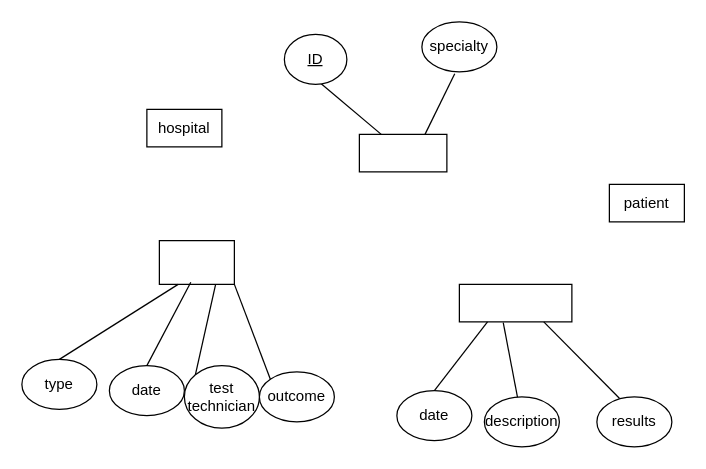
This 706x469 diagram has some shape labels left out. Here are the shapes that lost their labels. From the top down, the centre of each, then its label:
At point (402, 152): "doctor".
At point (196, 261): "test".
At point (515, 302): "treatment".
